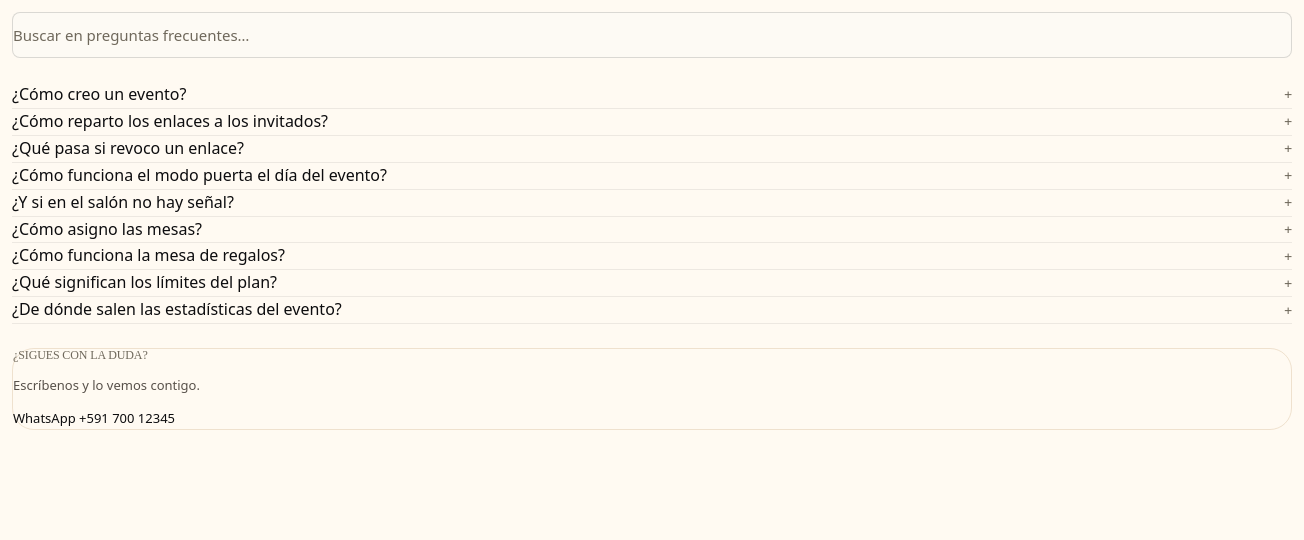
Test: HelpCenter › abrir una pregunta no cierra la anterior: se pueden leer dos a la vez
Click the button "¿Cómo creo un evento? +" at coordinates (99, 94), box [12, 82, 1292, 108]
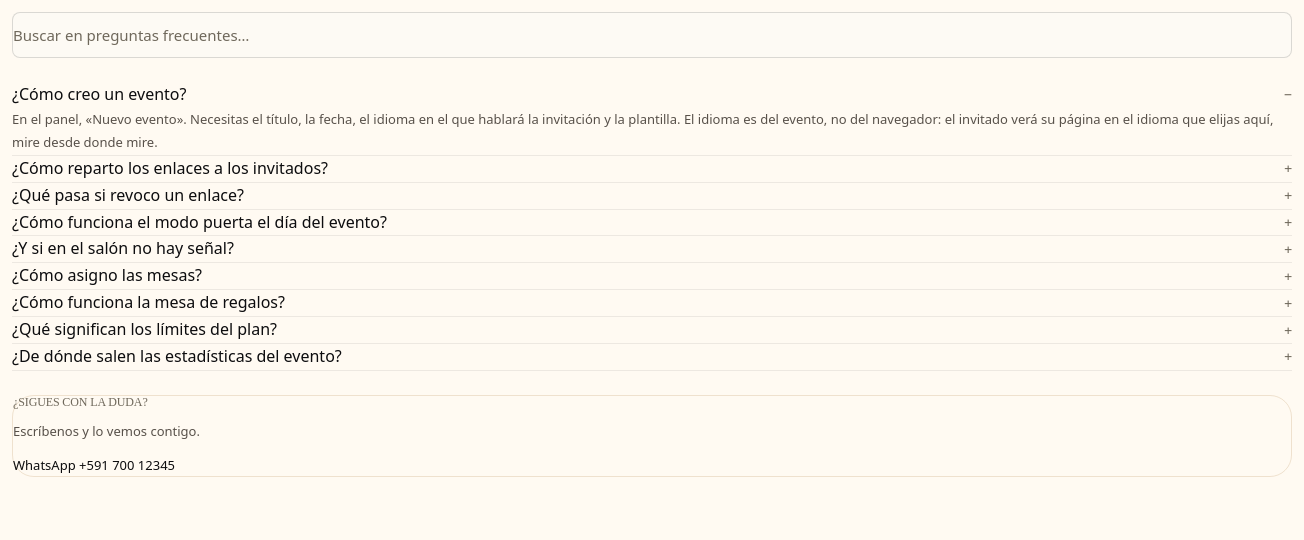
Click the button "¿Cómo reparto los enlaces a los invitados?" at coordinates (170, 168), box [12, 156, 1292, 182]
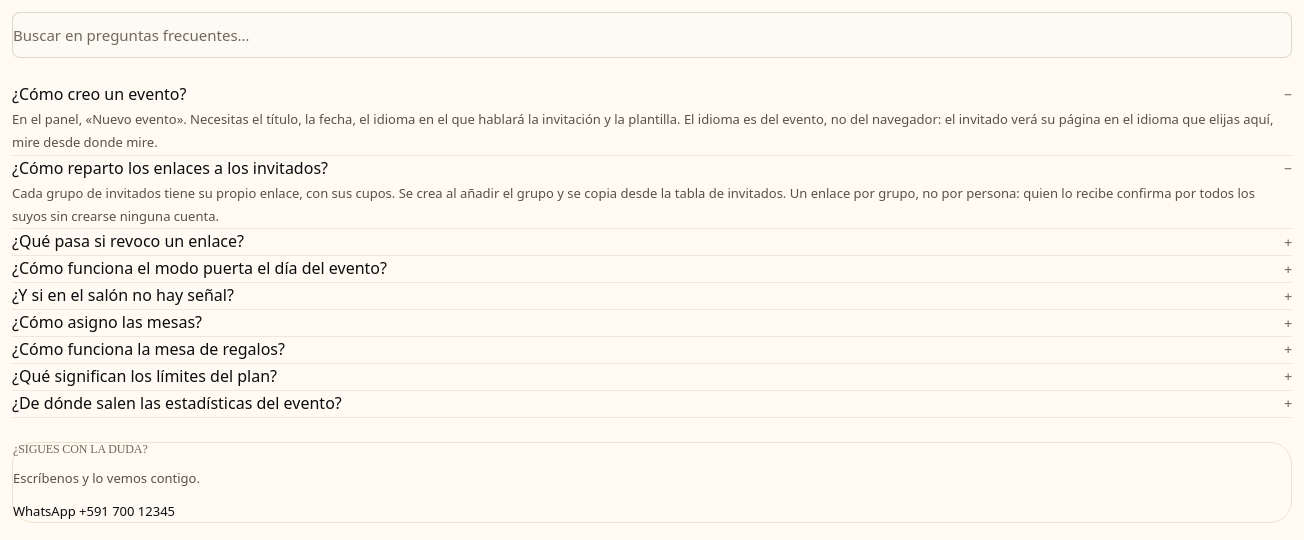
Check: the text "En el panel, «Nuevo evento». Necesitas el título, la fecha, el idioma en el que hablará la invitación y la plantilla. El" is shown, box [12, 110, 1273, 151]
Check: the text "Cada grupo de invitados tiene su propio enlace, con sus cupos. Se crea al añadir el grupo y se copia desde la tabla de i" is shown, box [12, 184, 1255, 225]
